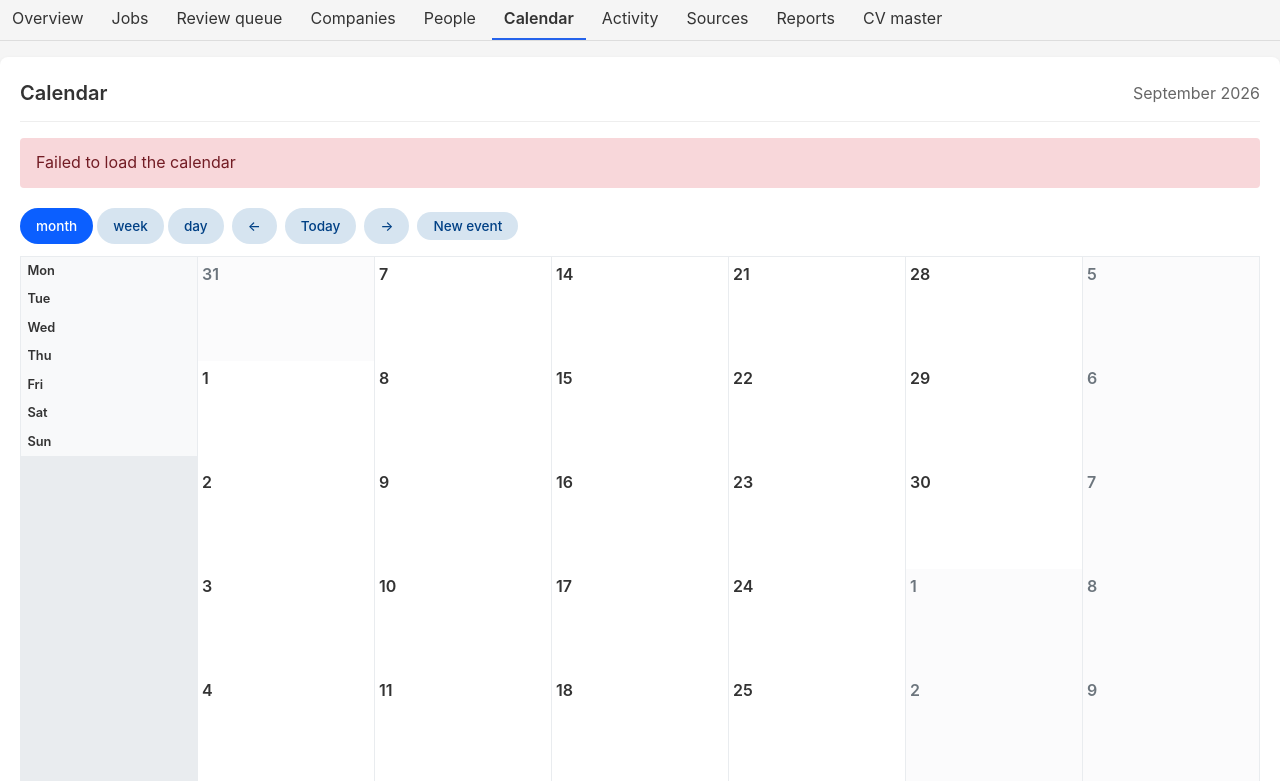
Scenario: MasiCalendar › clears the failure once a load succeeds
Expected: the text "Failed to load the calendar" is shown, x1=20 y1=138 x2=1260 y2=188
Click the button named "Later".
click(387, 226)  # box x1=364 y1=208 x2=409 y2=244
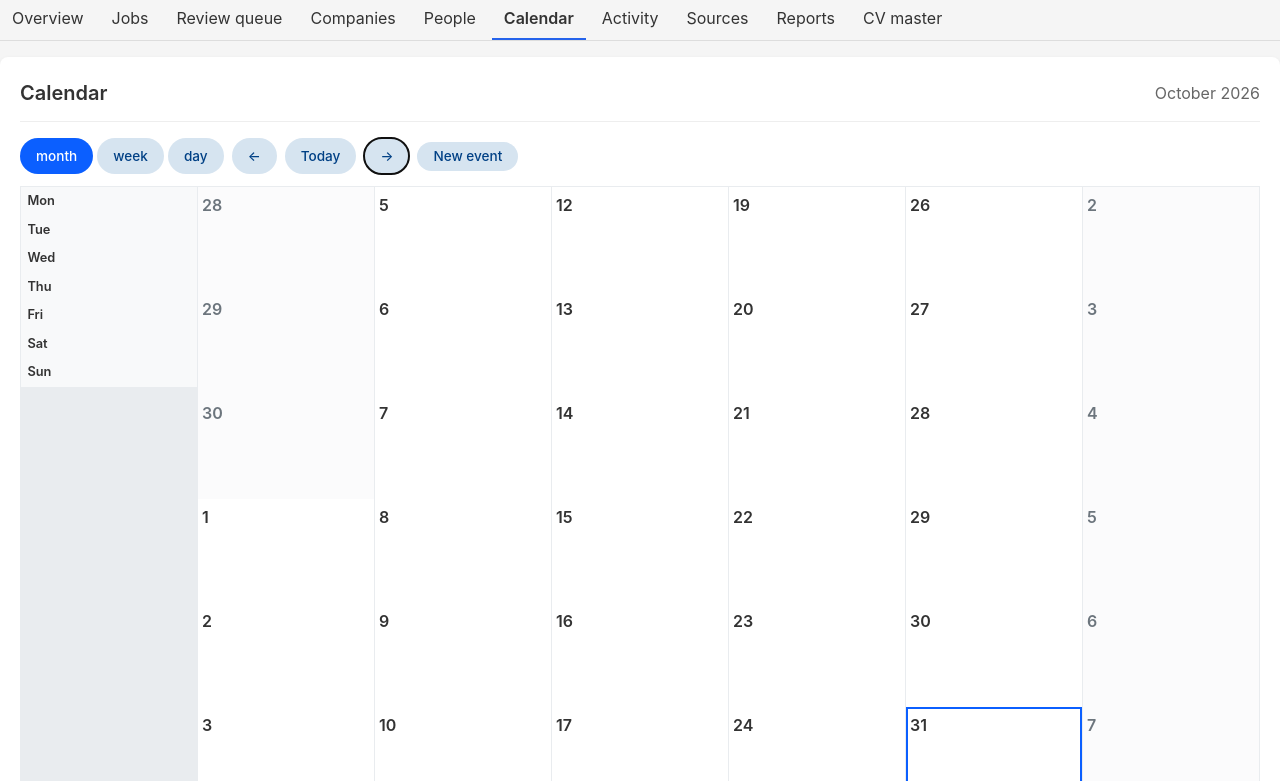
Expected: the text "Failed to load the calendar" is gone
